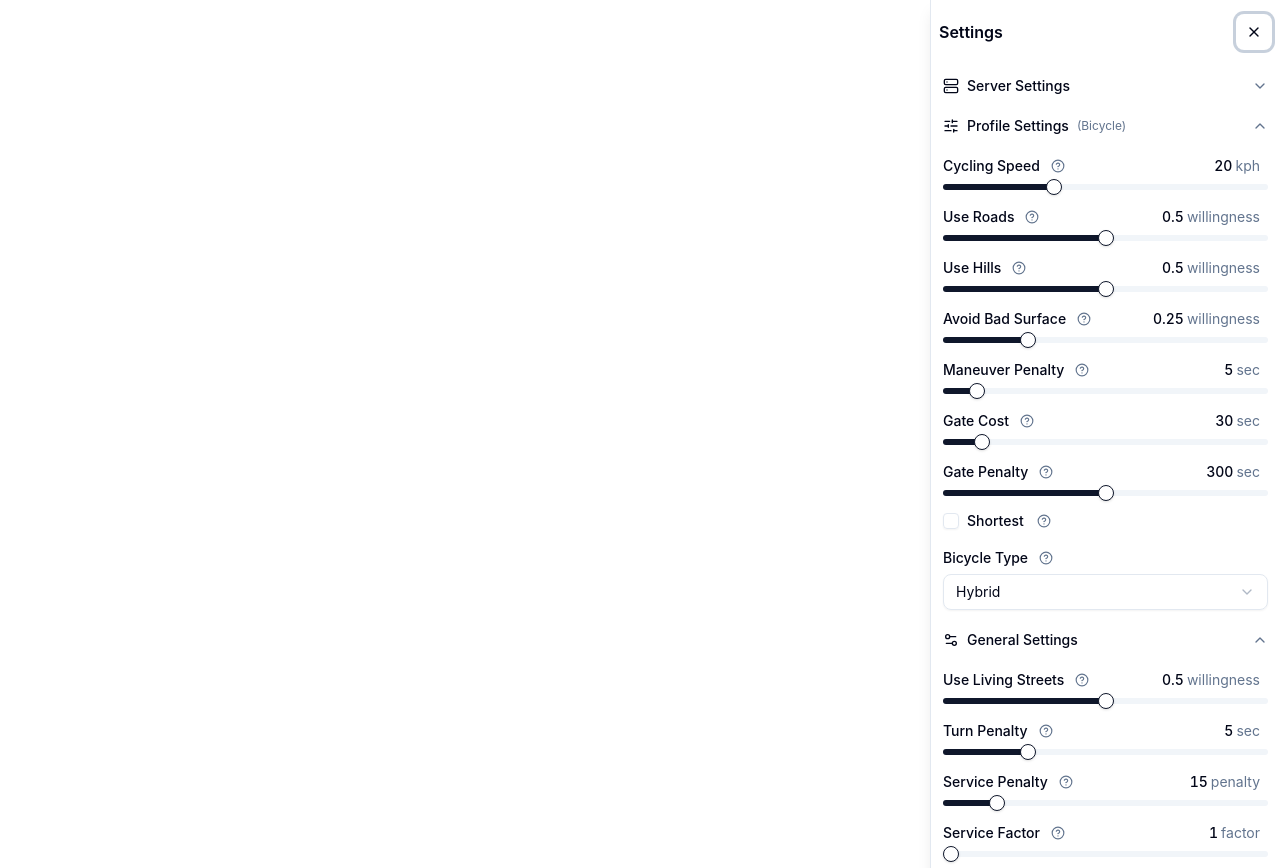
SettingsPanel › Server Settings › should show error for non-http protocol on blur
Click the button "Server Settings": {"x": 1018, "y": 86} [943,72,1268,100]
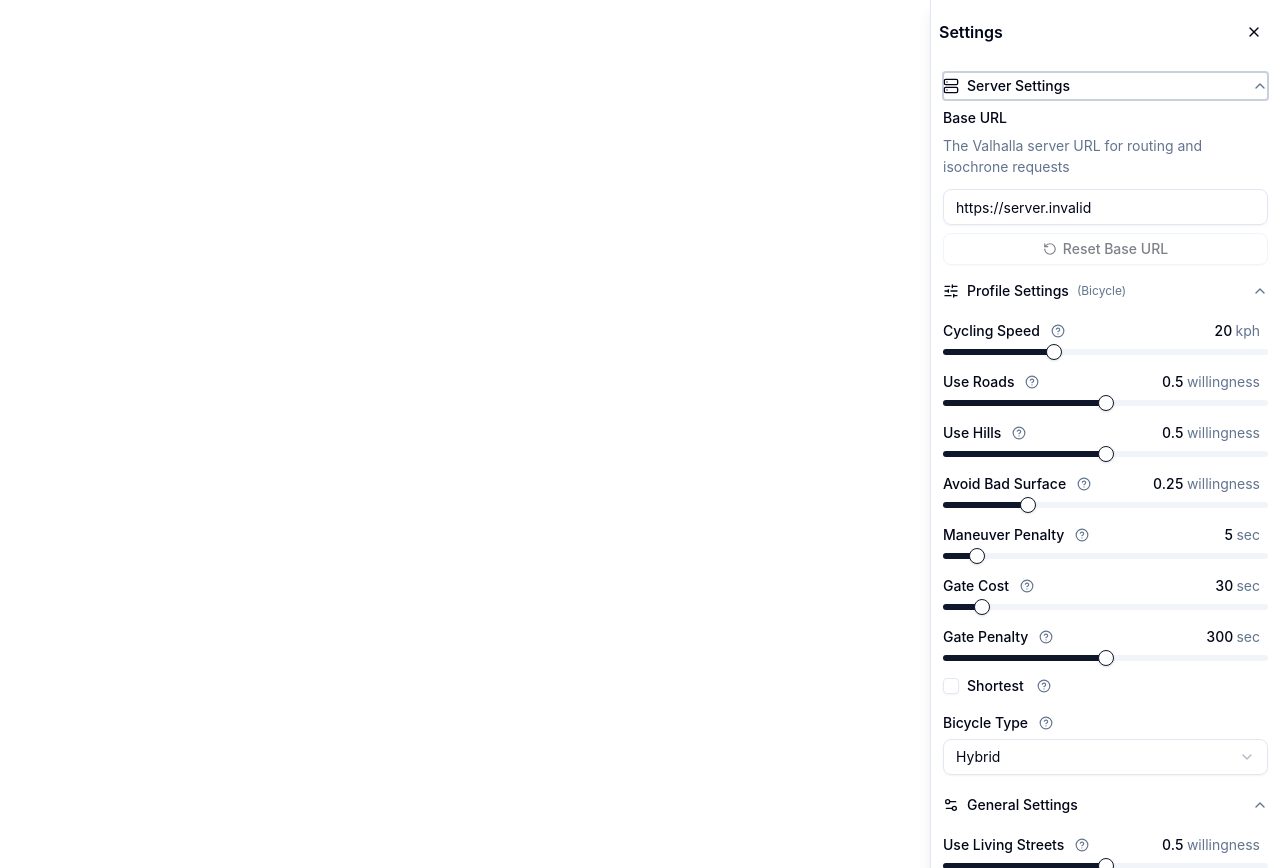
Replace the text in the field labelled "Base URL" with "ftp://example.com": {"x": 1106, "y": 207} [943,189,1268,225]
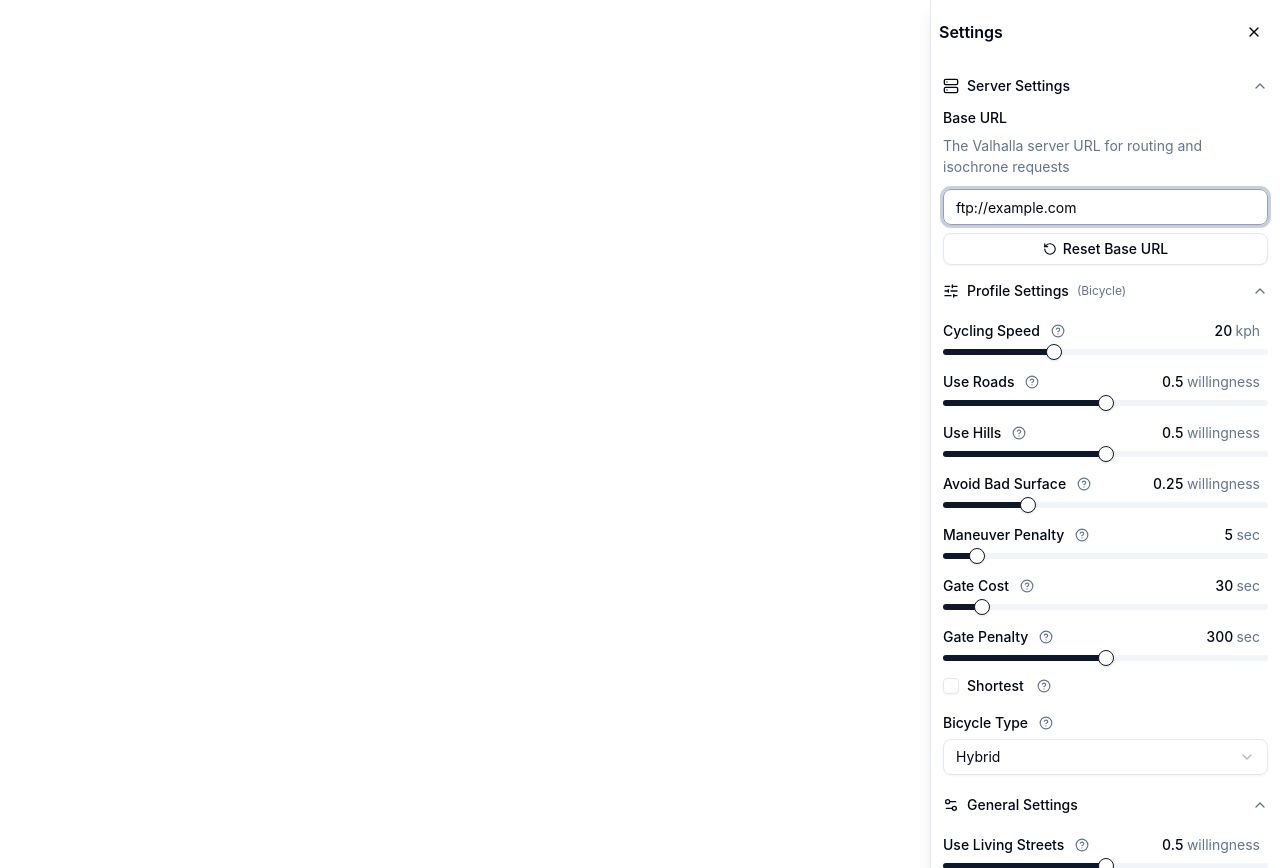
Press Tab
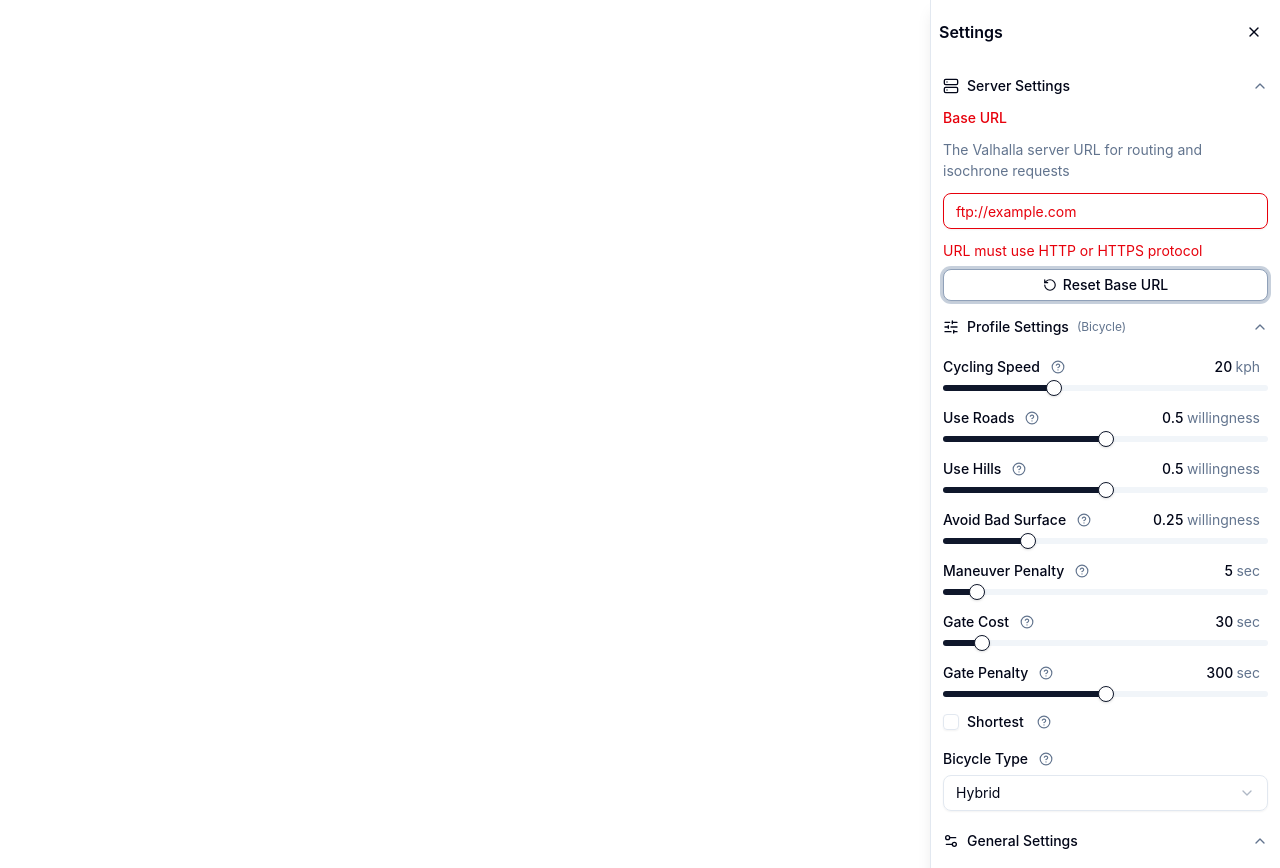
Expected: the text "URL must use HTTP or HTTPS protocol" is shown, [943,242,1202,259]
